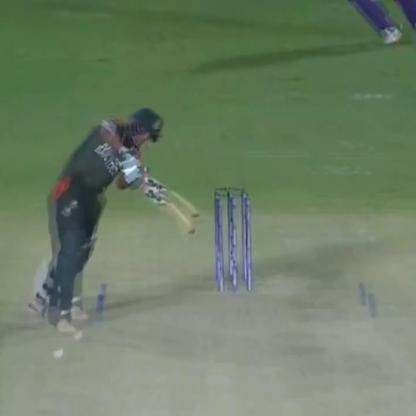ball: (64, 327, 86, 350), (48, 344, 69, 364)
bat: (140, 172, 200, 236)
pitch: (8, 259, 416, 415)
